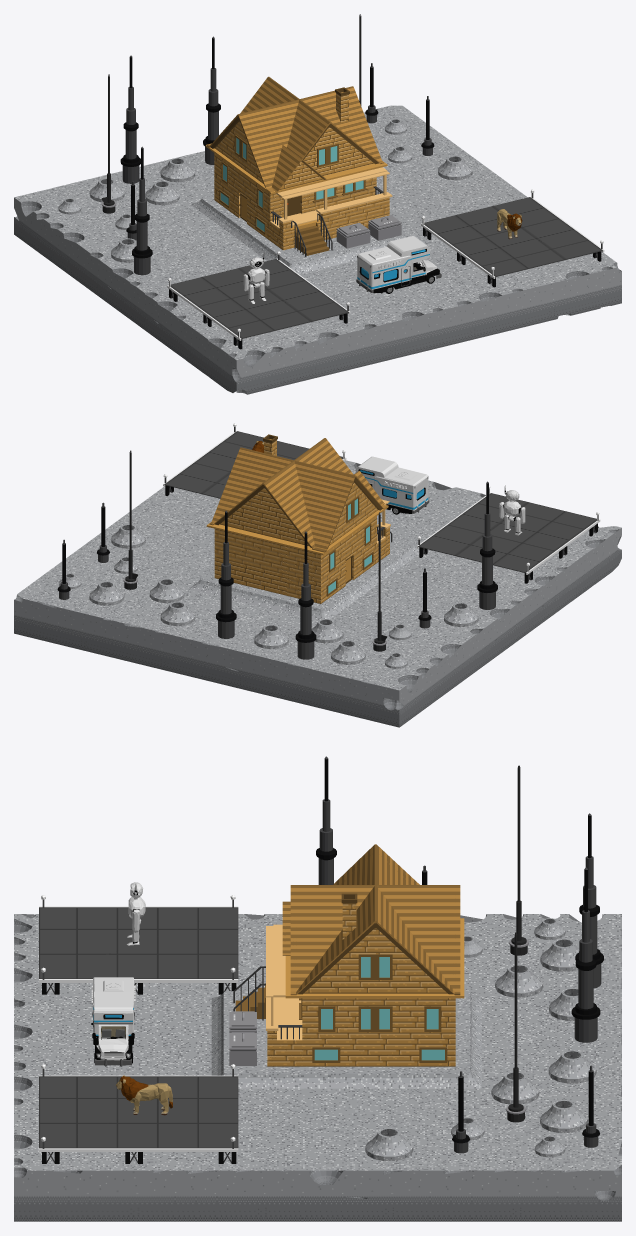
3 views of the same model, one above another, from view 1: azimuth 30°, elevation 25°; view 2: azimuth 150°, elevation 25°; view 3: azimuth 270°, elevation 25° (orthographic). The views are drawn at different scales.
Visible parts, largest first — view 1: Cube.027, Cube.508, Cube.026, Cube.025, Cube.028, VEHICLES_CAMPER, Cylinder.020, Cylinder.021, Cylinder.017, OBJRANDOM_PLATZEEBOT, Cube.029, Cube.030 (+4 smaller); view 2: Cube.027, Cube.508, Cube.025, Cube.028, Cube.026, VEHICLES_CAMPER, Cylinder.020, Cylinder.021, Cylinder.017, OBJRANDOM_PLATZEEBOT, Cylinder.031, Cylinder.028 (+8 smaller); view 3: Cube.027, Cube.508, Cube.025, Cube.026, Cube.028, VEHICLES_CAMPER, Cylinder.017, Cylinder.020, Cylinder.021, ANIMAL_LEON, Cylinder.033, Cylinder.031 (+11 smaller).
Boxes of the visible parts, <box> form: Cube.027: <box>14,105,621,394</box>; Cube.508: <box>205,76,392,256</box>; Cube.026: <box>421,189,604,287</box>; Cube.025: <box>167,251,350,349</box>; Cube.028: <box>191,195,424,274</box>; VEHICLES_CAMPER: <box>356,236,441,293</box>; Cylinder.020: <box>120,55,140,183</box>; Cylinder.021: <box>132,146,152,275</box>; Cylinder.017: <box>203,36,220,164</box>; OBJRANDOM_PLATZEEBOT: <box>243,252,269,303</box>; Cube.029: <box>336,222,370,248</box>; Cube.030: <box>368,215,401,240</box>; Cube.027: <box>14,460,621,727</box>; Cube.508: <box>206,434,392,603</box>; Cube.025: <box>417,485,600,583</box>; Cube.028: <box>190,538,419,620</box>; Cube.026: <box>163,423,346,498</box>; VEHICLES_CAMPER: <box>355,456,429,514</box>; Cylinder.020: <box>295,531,316,659</box>; Cylinder.021: <box>477,481,497,609</box>; Cylinder.017: <box>216,510,236,638</box>; OBJRANDOM_PLATZEEBOT: <box>499,485,525,535</box>; Cylinder.031: <box>89,581,124,605</box>; Cylinder.028: <box>331,640,365,664</box>; Cube.027: <box>14,914,621,1221</box>; Cube.508: <box>233,844,464,1066</box>; Cube.025: <box>39,895,238,994</box>; Cube.026: <box>39,1064,238,1163</box>; Cube.028: <box>211,991,481,1088</box>; VEHICLES_CAMPER: <box>91,977,135,1066</box>; Cylinder.017: <box>571,867,600,1042</box>; Cylinder.020: <box>575,813,603,988</box>; Cylinder.021: <box>316,756,336,884</box>; ANIMAL_LEON: <box>116,1075,172,1115</box>; Cylinder.033: <box>365,1128,413,1160</box>; Cylinder.031: <box>540,1100,587,1132</box>.
Bounding box in the file's own units: 4000 × 1803 × 4000.
Materials: 35 (5 with a texture image).
